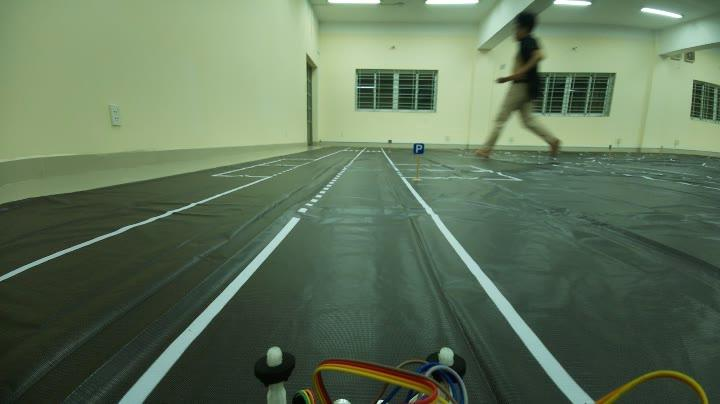parking: (410, 137, 427, 157)
